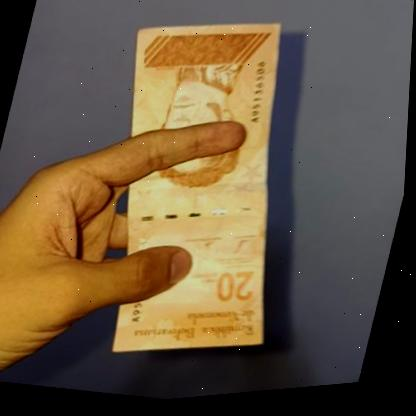twenty-front-vef: (59, 0, 340, 386)
